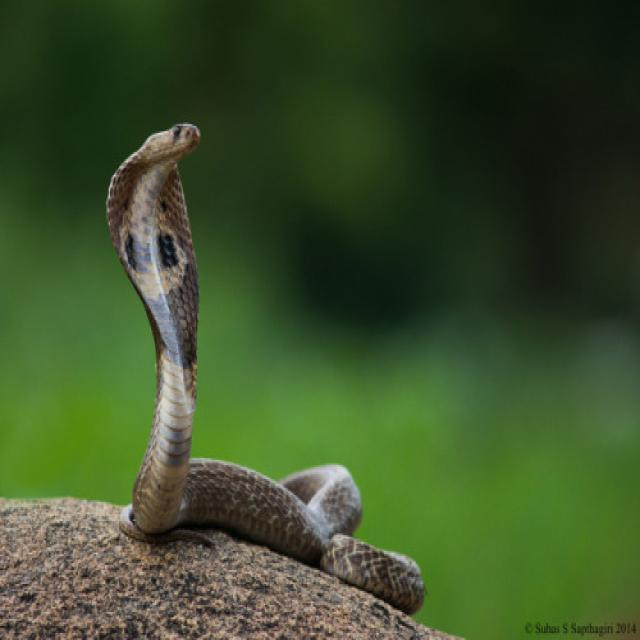Snake: (104, 120, 426, 616)
